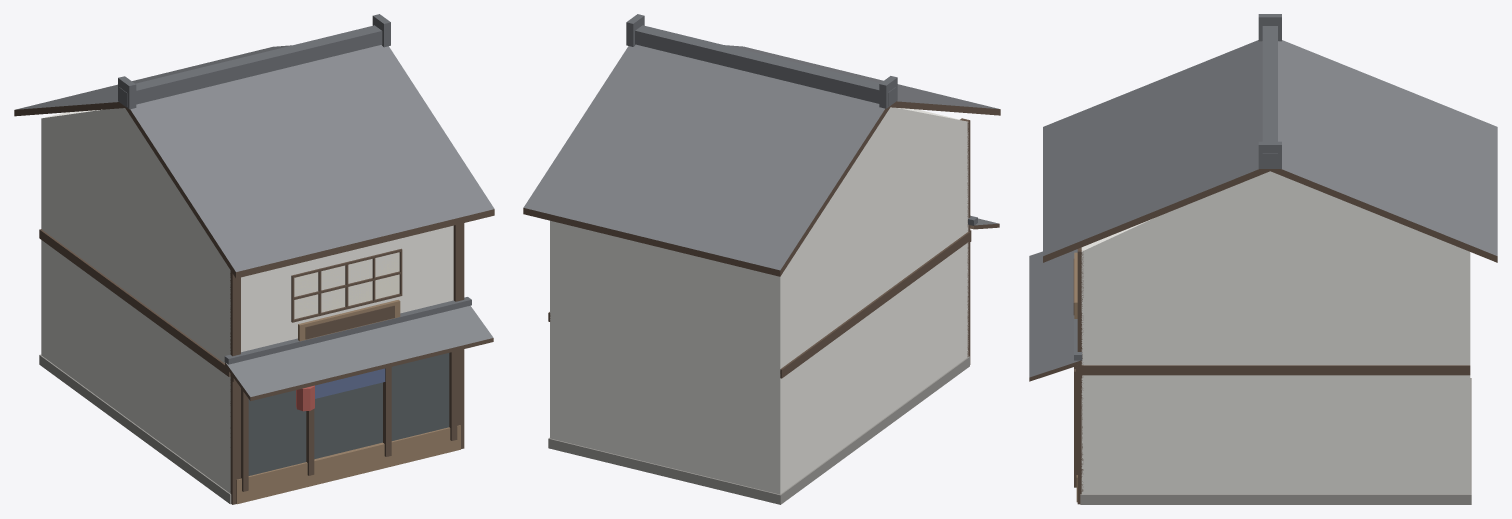
Rendered from HK_Machiya_B.glb.
3 renders of one model, left to right at view 1: azimuth 30°, elevation 25°; view 2: azimuth 150°, elevation 25°; view 3: azimuth 270°, elevation 25°, orthographic. The views are drawn at different scales.
Parts seen in each view (by area): view 1: HK_Machiya_B; view 2: HK_Machiya_B; view 3: HK_Machiya_B.
Boxes of the visible parts, x1,y1,x2,y2 form: HK_Machiya_B: [14, 14, 494, 504]; HK_Machiya_B: [523, 14, 1000, 504]; HK_Machiya_B: [1029, 14, 1497, 504].
Size of the model in its own units: 6.8 by 8.86 by 10.25.
